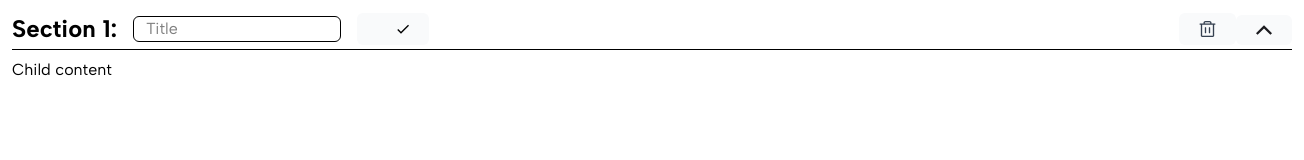
SyllabusExpansionWrapper › shows error on invalid title length (< 5)
This screenshot has width=1304, height=160.
Type "abc" into the field with test id "inputTitle". click: (237, 29)
box: [133, 16, 341, 42]
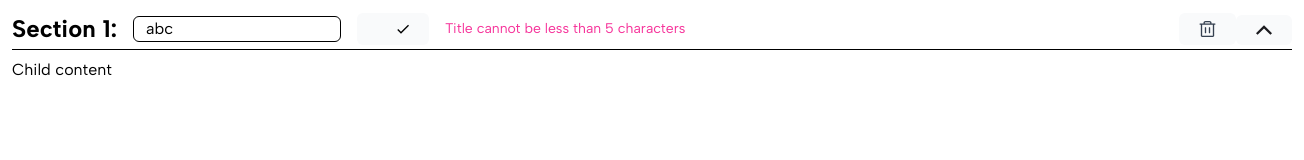
Now the text "Title cannot be less than 5 characters" is shown, box [445, 19, 685, 39]
